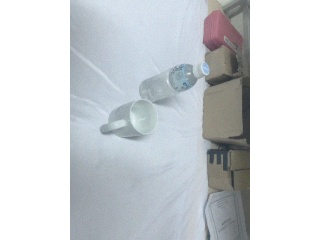bottle: (139, 62, 209, 103)
box: (203, 77, 249, 146), (207, 147, 250, 191)
cup: (101, 99, 158, 138)
